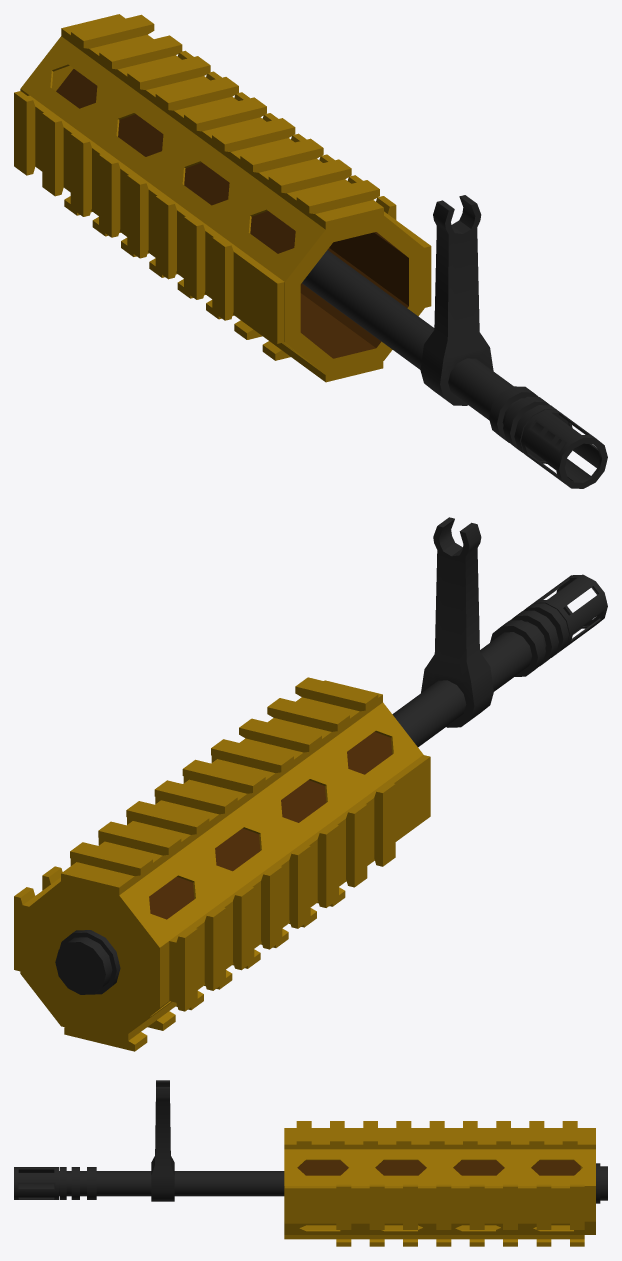
Rendered from barrel_6.fbx.
The picture shows the model from 3 angles, top to bottom: view 1: azimuth 30°, elevation 25°; view 2: azimuth 150°, elevation 25°; view 3: azimuth 270°, elevation 25°; orthographic projection. The views are drawn at different scales.
Parts seen in each view (by area): view 1: barrel_6; view 2: barrel_6; view 3: barrel_6.
Boxes of the visible parts, <box> form: barrel_6: <box>14,14,607,488</box>; barrel_6: <box>14,517,607,1051</box>; barrel_6: <box>14,1080,607,1246</box>.
Bounding box in the file's own units: 337 × 483 × 1716.
